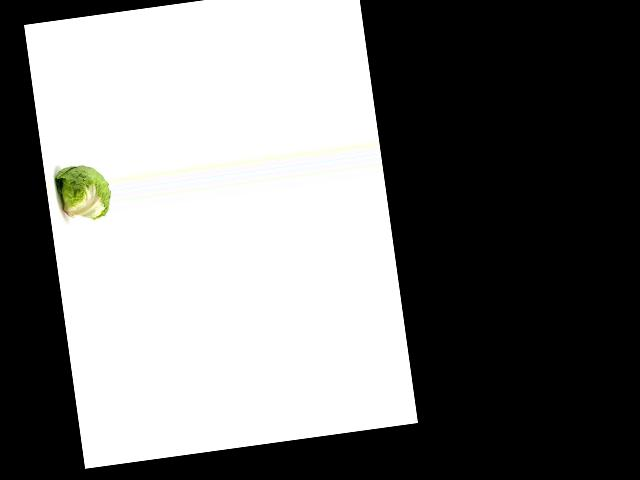lettuce: (50, 160, 113, 225)
